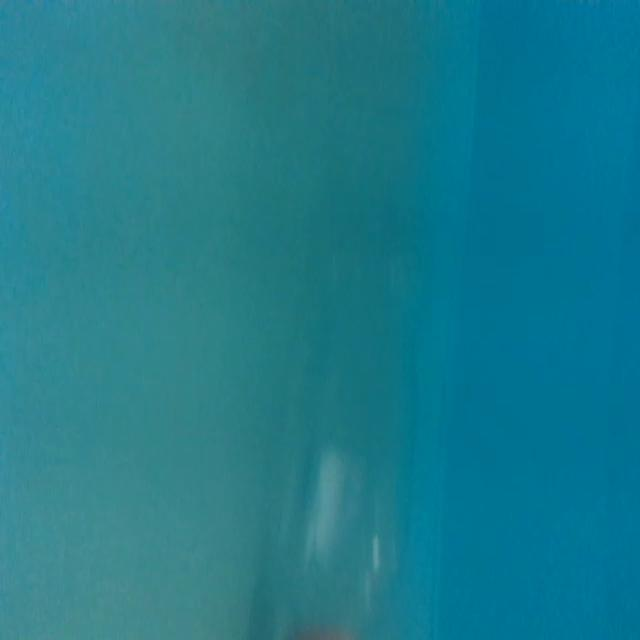plastic bottle: (246, 220, 437, 640)
